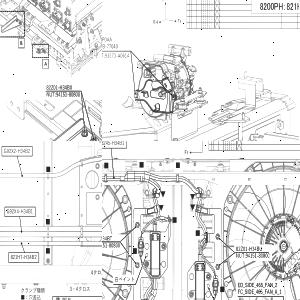PartNumber: (3, 147, 30, 155), (11, 253, 38, 261), (6, 208, 34, 215), (246, 252, 270, 260), (104, 52, 130, 59), (235, 246, 264, 252), (46, 84, 72, 90), (56, 92, 80, 98), (102, 141, 125, 146), (102, 42, 118, 49), (102, 242, 120, 248), (102, 235, 113, 241)
